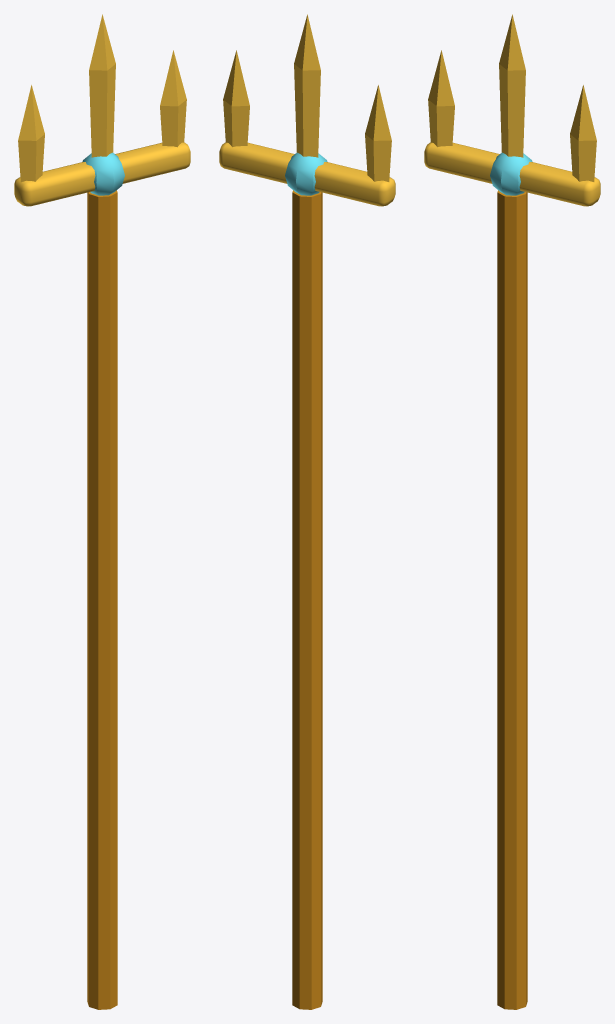
File: Trident.fbx
3 renders of one model, left to right at view 1: azimuth 30°, elevation 25°; view 2: azimuth 150°, elevation 25°; view 3: azimuth 330°, elevation 25°, orthographic.
Visible parts, largest first — view 1: Trident; view 2: Trident; view 3: Trident.
Part boxes in pixels (x1,y1,x2,y2): Trident: (14,14,190,1009); Trident: (219,14,395,1009); Trident: (424,14,600,1009).
Bounding box in the file's own units: 1 × 5.6 × 0.24.
Materials: 1 (1 with a texture image).
